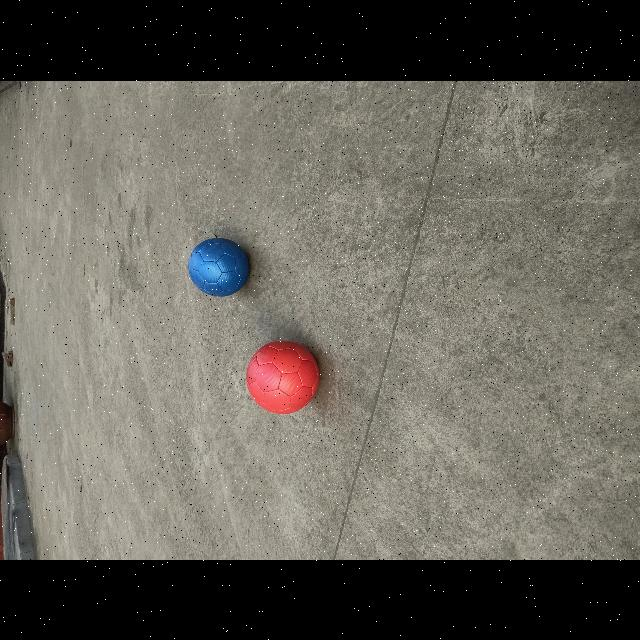B: (188, 238, 250, 296)
R: (247, 340, 320, 414)
